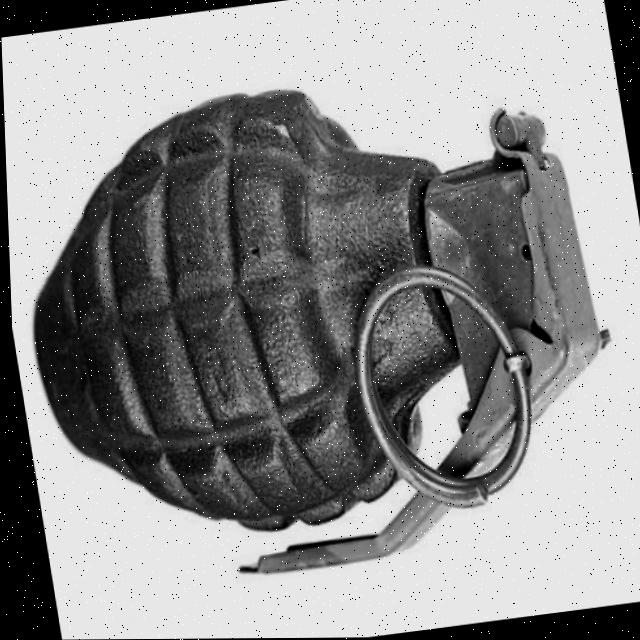grenade: (1, 19, 640, 633)
